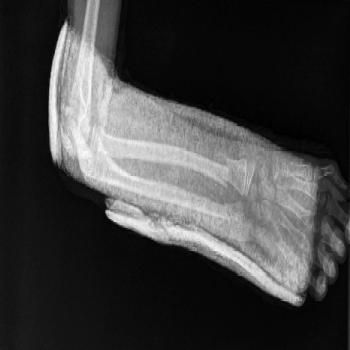Fracture: (221, 150, 235, 186)
